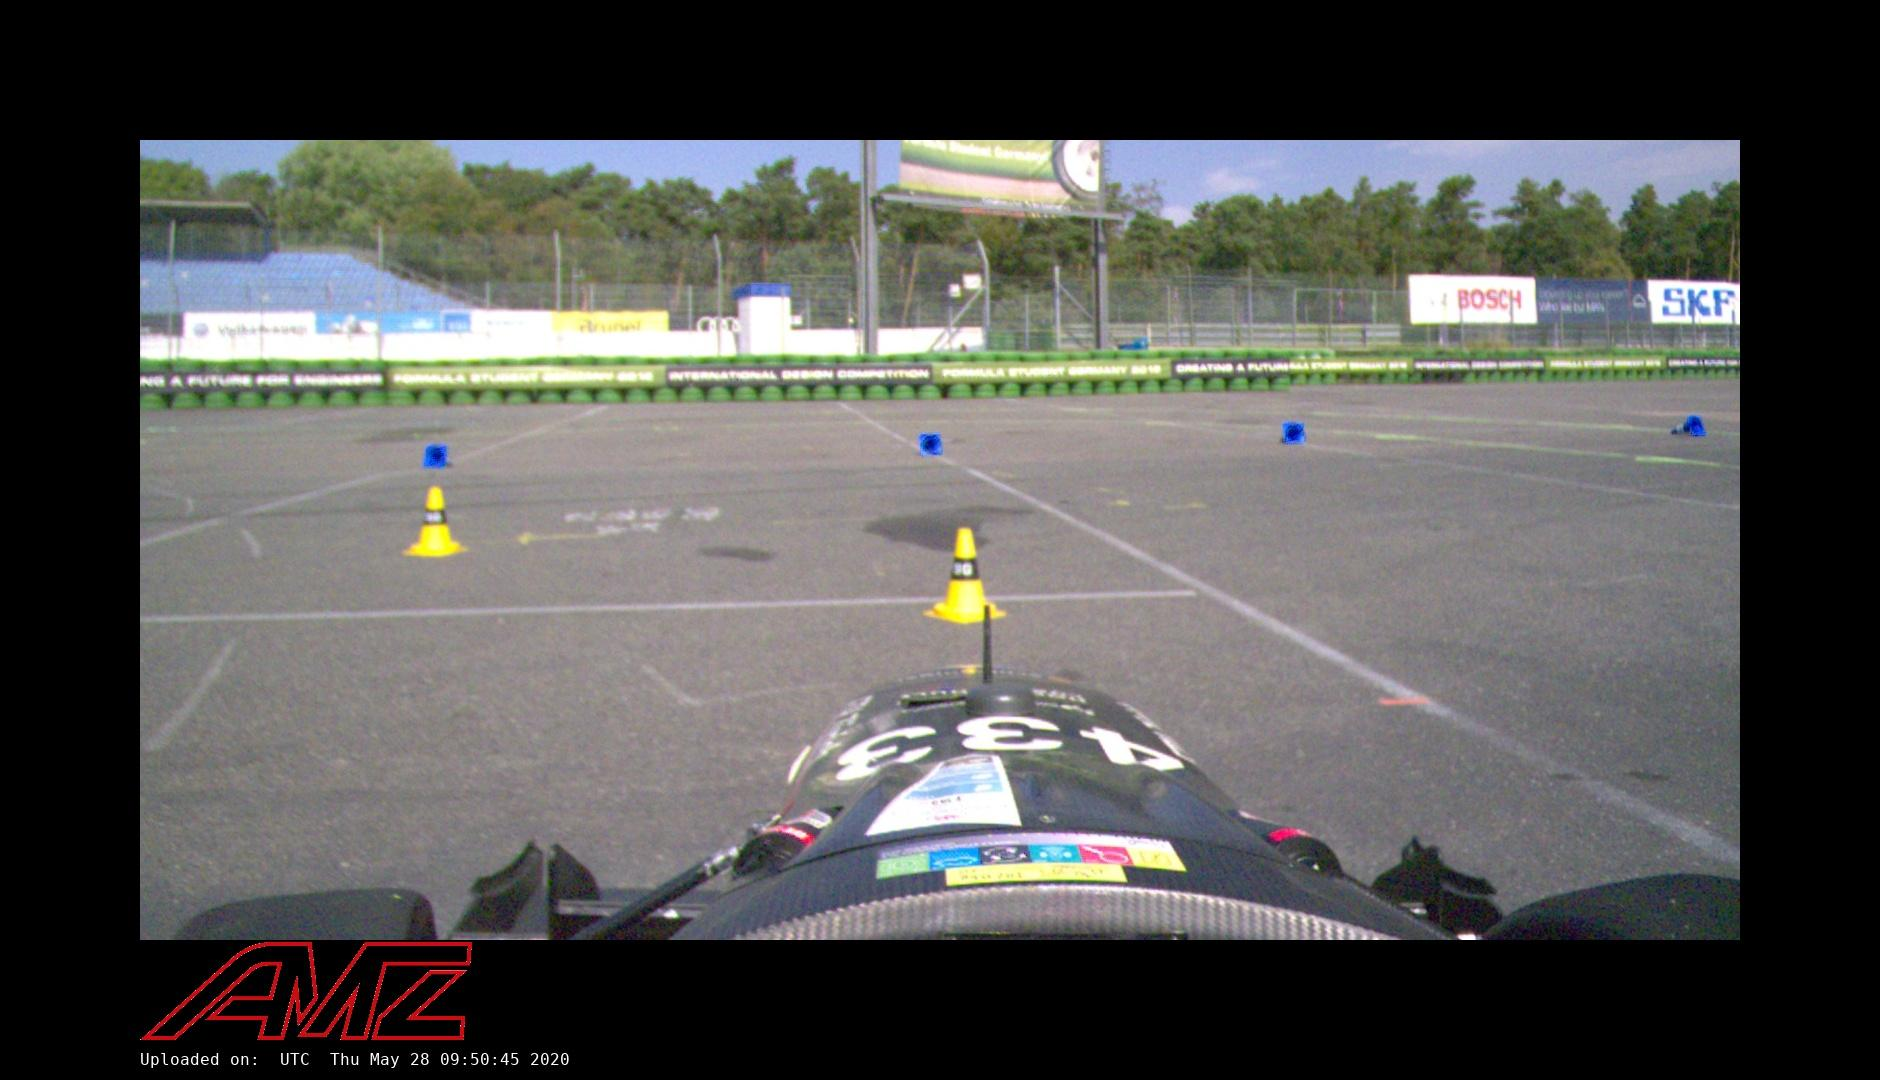blue_cone: (1670, 413, 1706, 435), (424, 444, 453, 468), (918, 431, 943, 456), (1282, 421, 1305, 444)
yellow_cone: (923, 527, 1007, 624), (402, 486, 467, 557)
